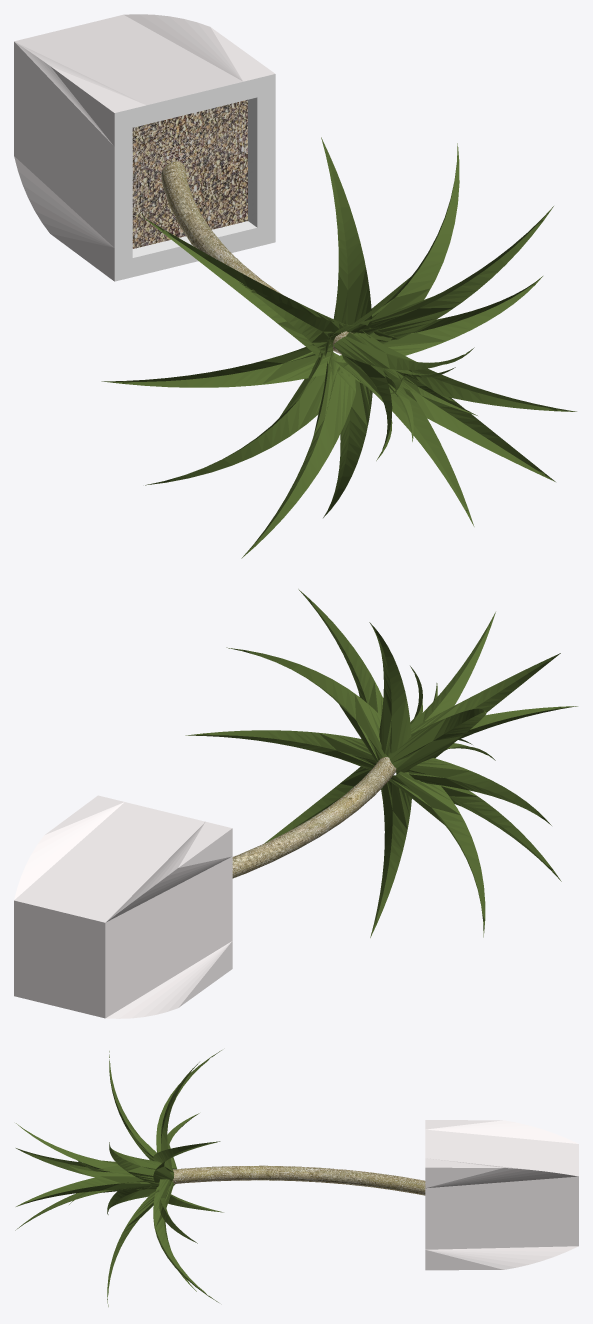
3 renders of one model, top to bottom at view 1: azimuth 30°, elevation 25°; view 2: azimuth 150°, elevation 25°; view 3: azimuth 270°, elevation 25°, orthographic. The views are drawn at different scales.
Visible parts, largest first — view 1: potted plant; view 2: potted plant; view 3: potted plant.
Part boxes in pixels (box(x1,y1,x2,y2)): potted plant: box(14, 14, 576, 558); potted plant: box(14, 589, 577, 1018); potted plant: box(15, 1050, 578, 1306).
Size of the model in its own units: 43.36 by 35.81 by 78.94.
33 materials, 2 textured.
